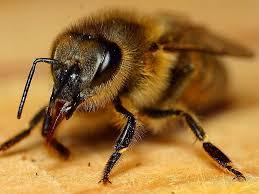Apis-mellifera-scutellata: (8, 2, 251, 190)
